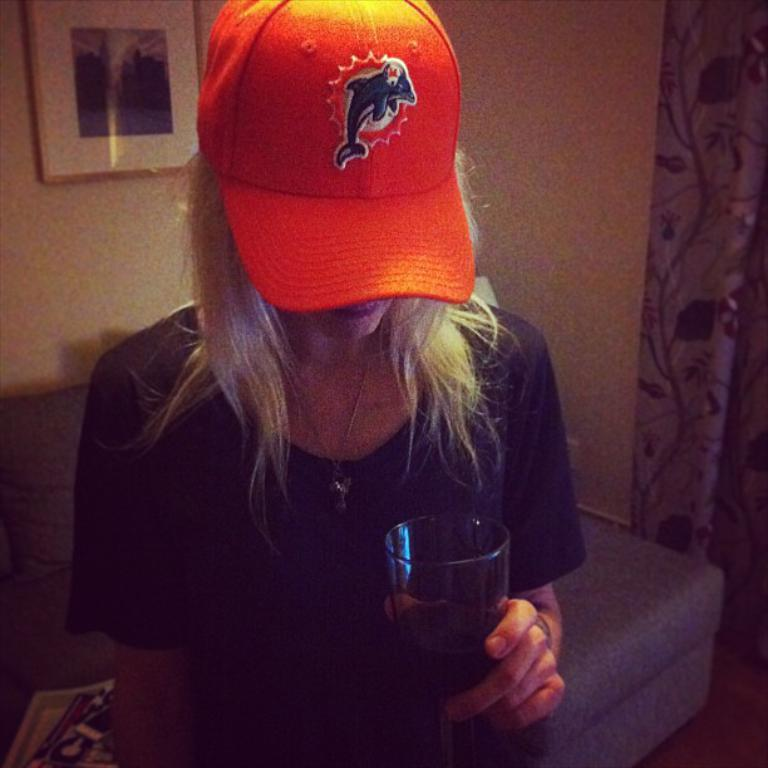Hat: (194, 0, 479, 312)
